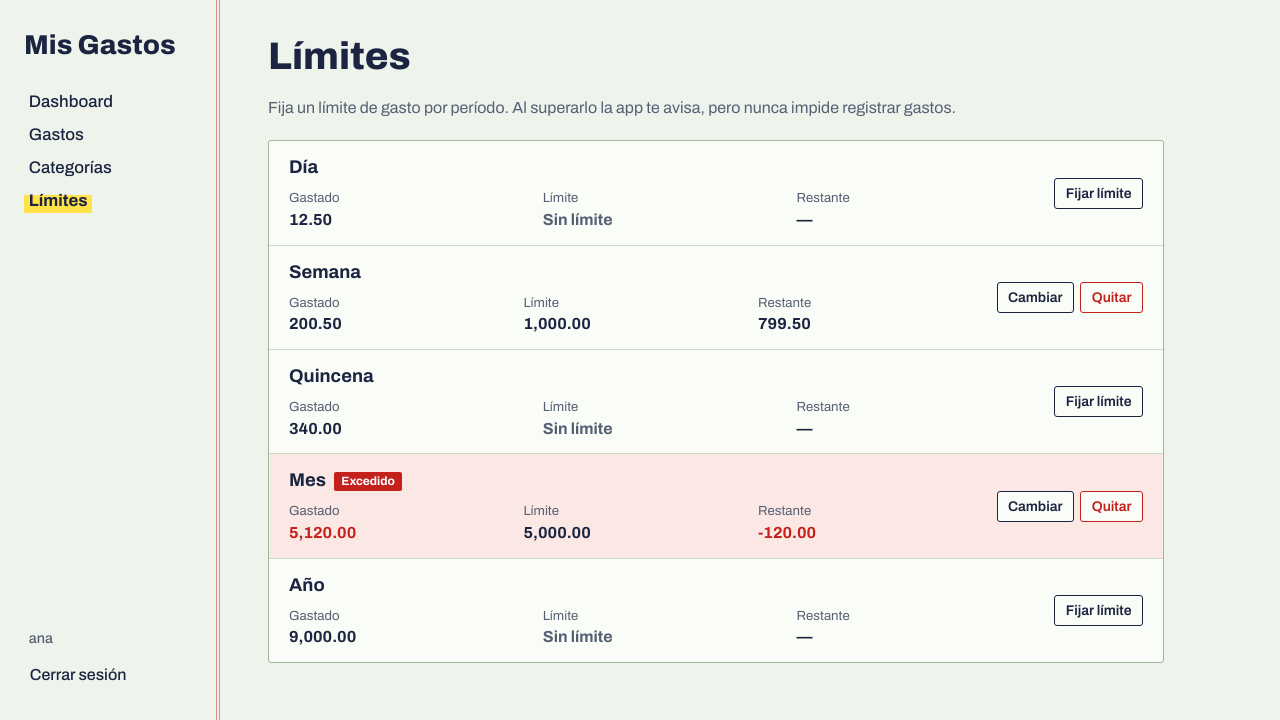
Test case: LimitsPage: set, change and remove › removes a limit after confirming
Expected: the heading "Límites" is shown, [268,36,411,76]
Click the button with aria-label "Quitar límite de Semana": (1112, 297) [1080,282,1143,313]
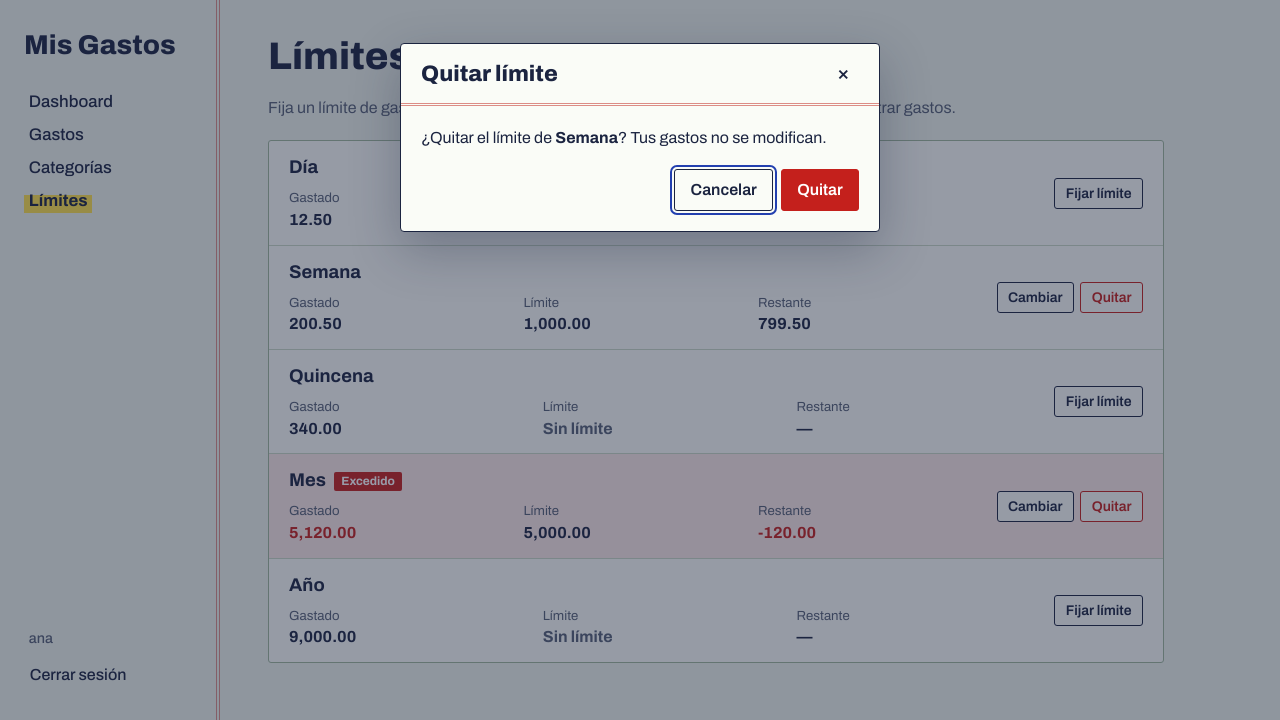
Expected: the text "Semana" is shown, [555,129,618,146]
Click the button "Quitar": (820, 190) [781,169,859,211]
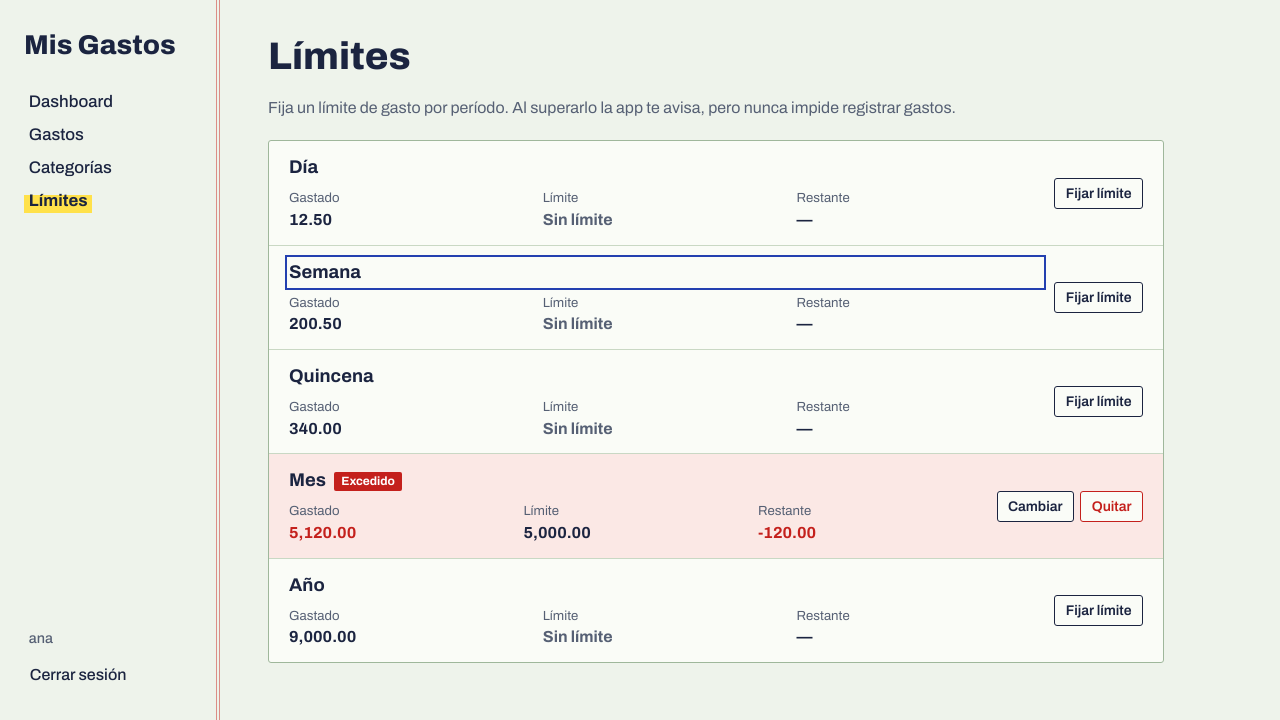
Expected: the dialog is gone
Expected: the element showing "Sin límite" in the row of "200.50" is shown, [543,315,613,332]
Expected: the button with aria-label "Fijar límite de Semana" is shown, [1054,282,1143,313]
